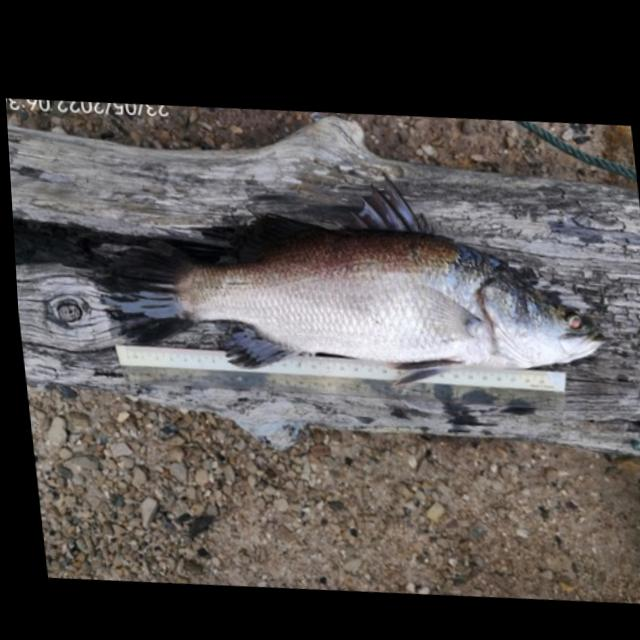Seabass: (89, 130, 614, 421)
